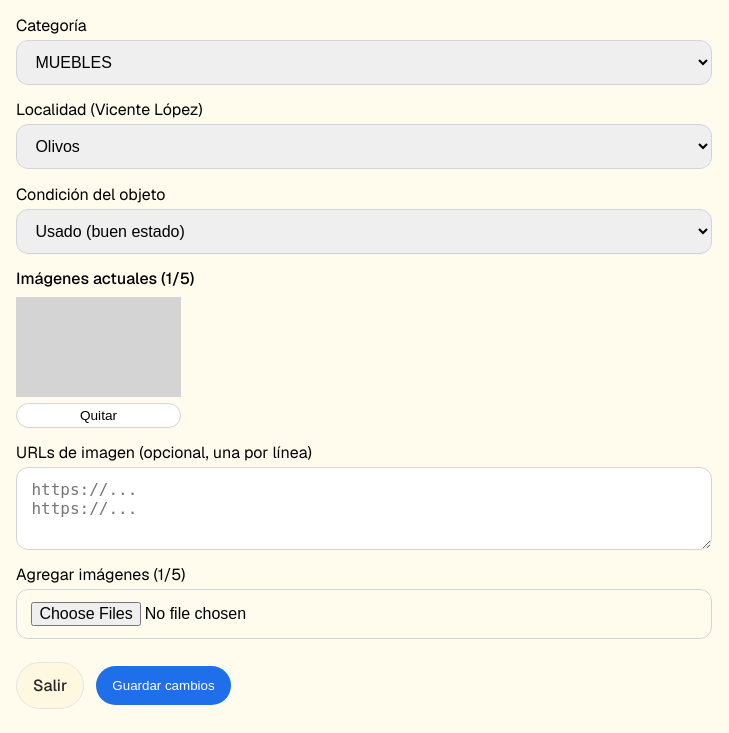
it: EditarPublicacionPage › muestra error cuando falla el guardado
The width and height of the screenshot is (729, 733).
(page scrolled)
What coordinates should you click on to do the following:
click the button "Guardar cambios"
I would click on:
 (164, 685)
Its box is x1=96 y1=666 x2=231 y2=705.
(page scrolled)
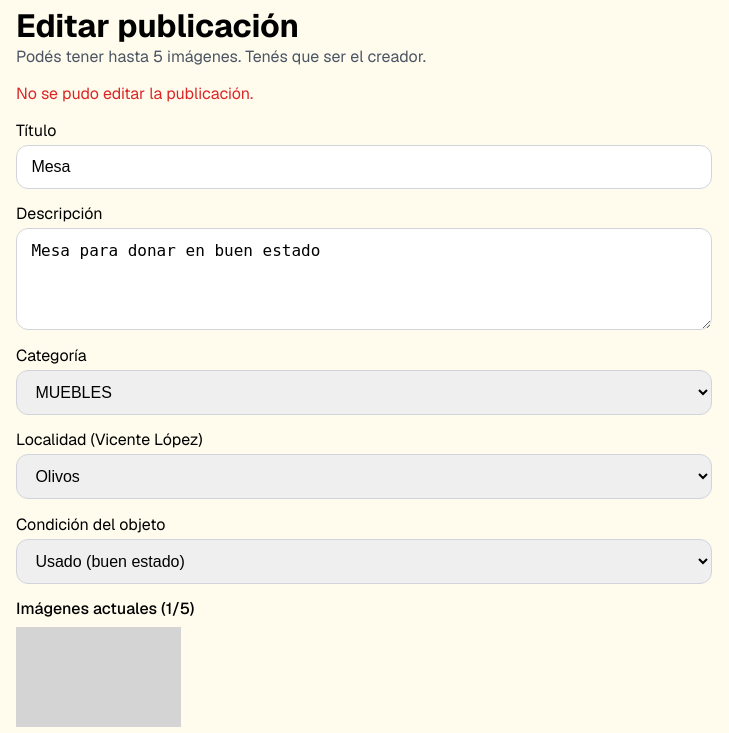
Result: the text "No se pudo editar la publicación." is shown at x1=16 y1=83 x2=253 y2=104
